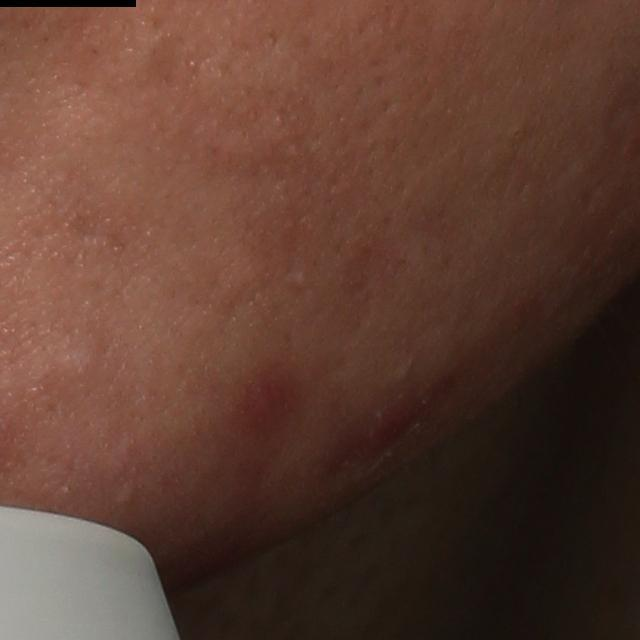comedo: (55, 344, 106, 385), (290, 271, 309, 289)
papule: (351, 394, 421, 458)
